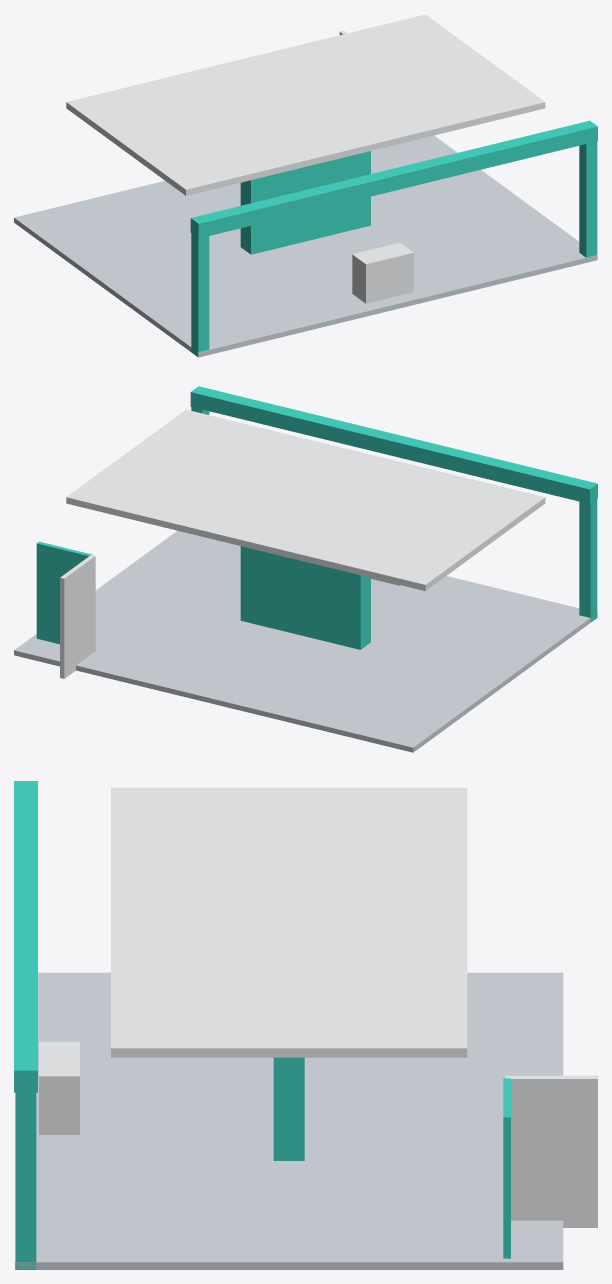
3 renders of one model, top to bottom at view 1: azimuth 30°, elevation 25°; view 2: azimuth 150°, elevation 25°; view 3: azimuth 270°, elevation 25°, orthographic. The views are drawn at different scales.
Visible parts, largest first — view 1: Exhibition Booth Concept; view 2: Exhibition Booth Concept; view 3: Exhibition Booth Concept.
Boxes of the visible parts, x1=… form: Exhibition Booth Concept: x1=14, y1=14, x2=597, y2=357; Exhibition Booth Concept: x1=14, y1=386, x2=597, y2=752; Exhibition Booth Concept: x1=14, y1=781, x2=597, y2=1269.
Size of the model in its own units: 10 by 3.34 by 8.52.
